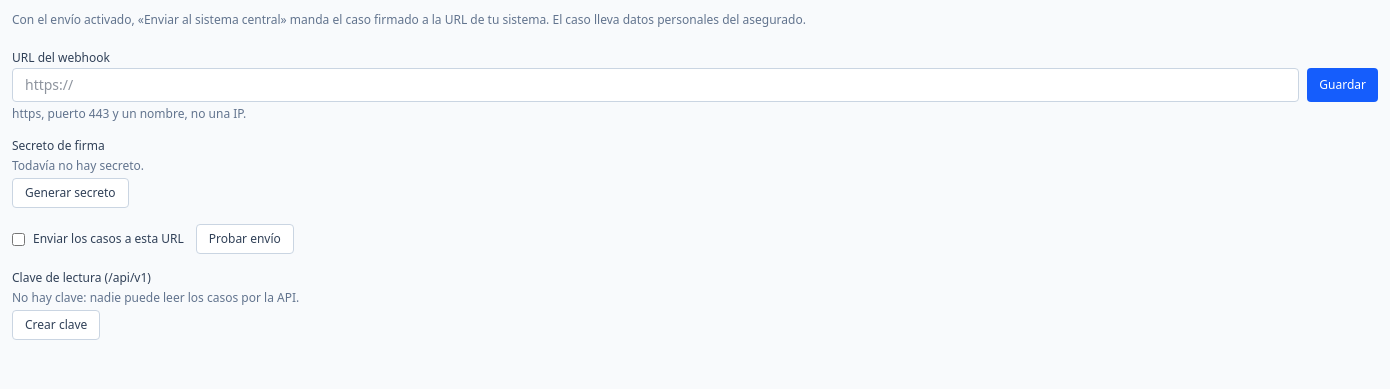
Test: CoreSyncPanel › la prueba fallida dice el motivo en palabras
Click the button "Probar envío".
click(245, 239)  # box x1=196 y1=224 x2=294 y2=254
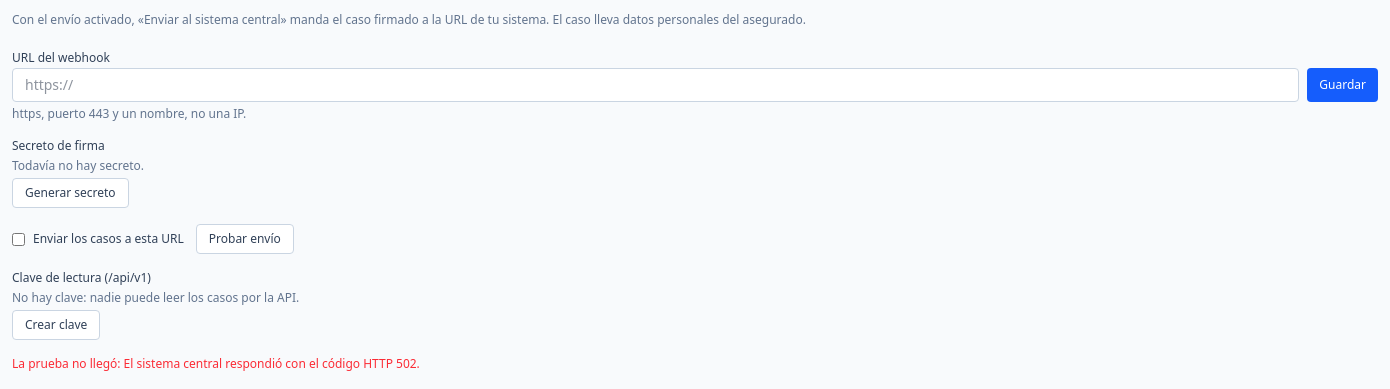
Result: the message reads "La prueba no llegó: El sistema central respondió con el código HTTP 502." at x1=12 y1=355 x2=420 y2=372
